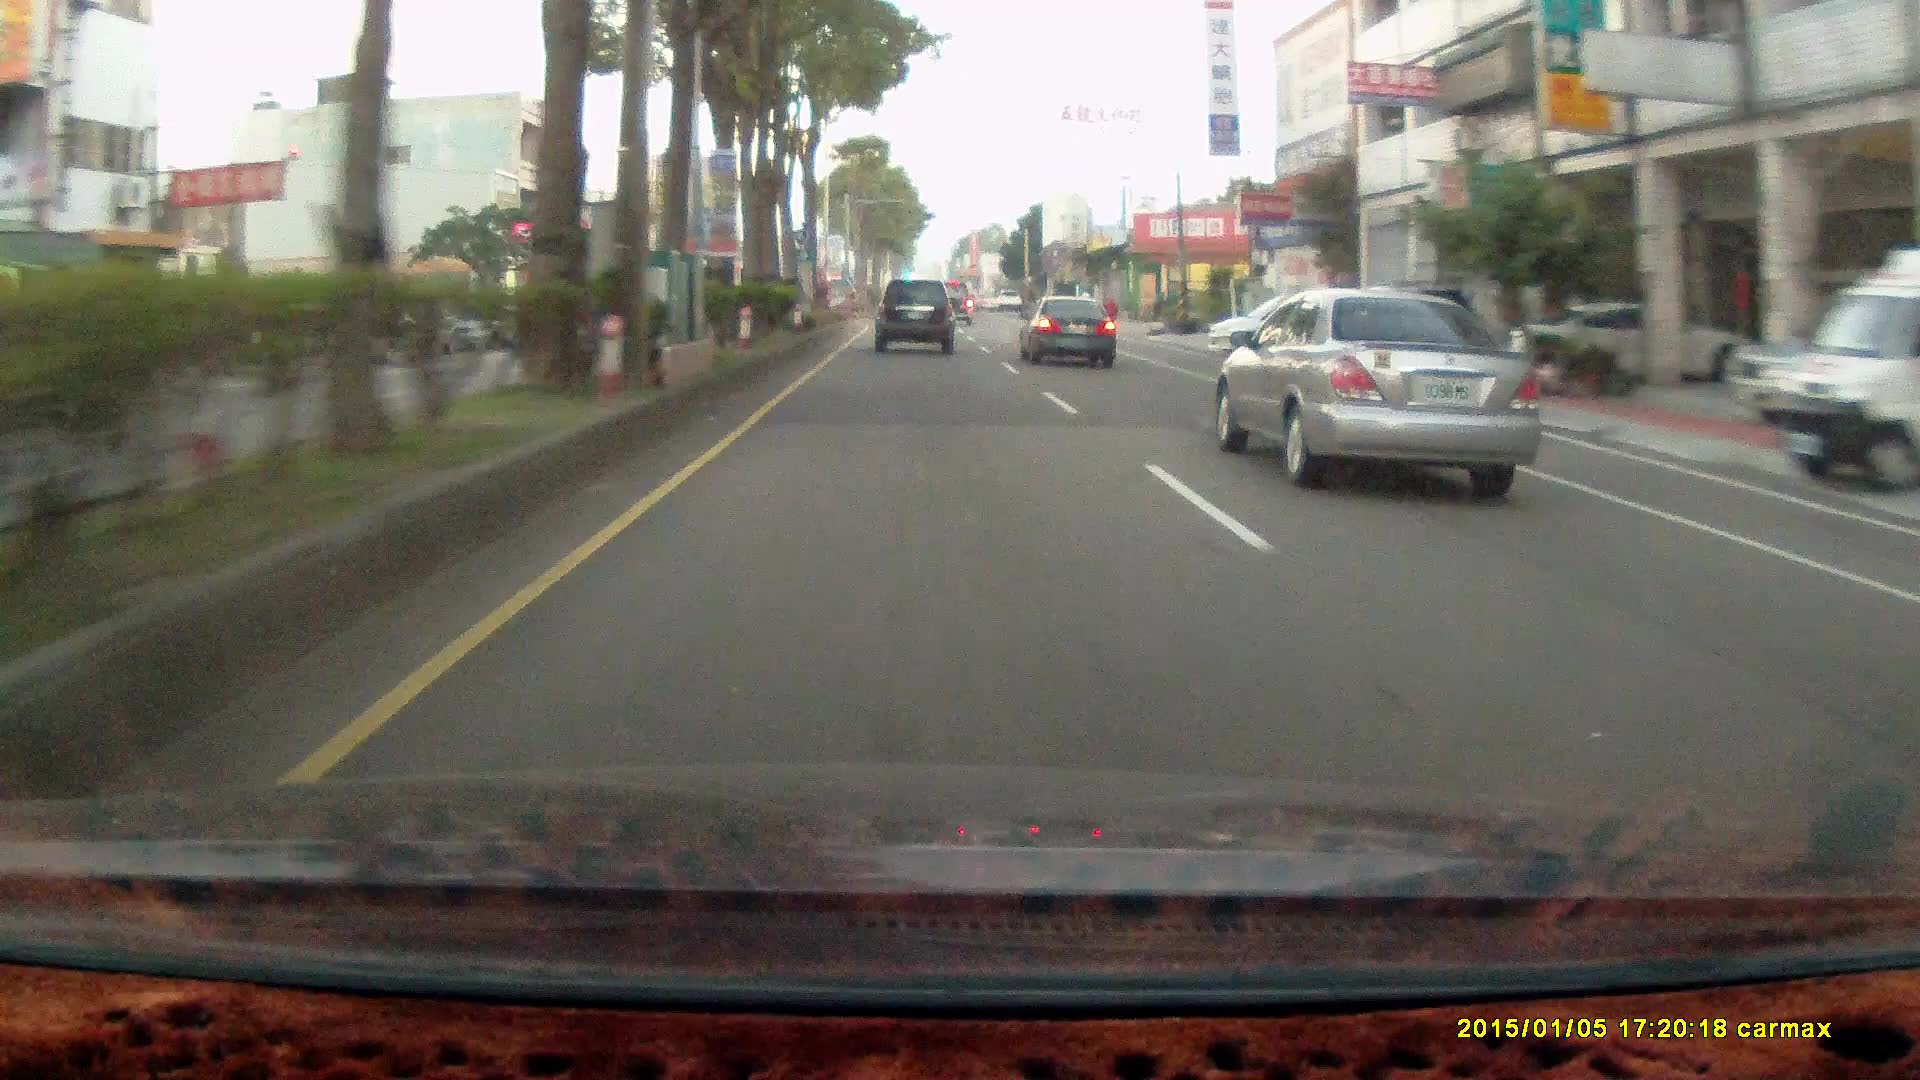pedestrian: (1100, 295, 1120, 339)
vehicle: (1218, 291, 1545, 486), (1764, 250, 1920, 499), (1503, 304, 1760, 386), (1337, 284, 1511, 396), (1219, 301, 1383, 371), (1206, 291, 1365, 361), (1018, 294, 1122, 369), (1018, 293, 1116, 368), (873, 280, 958, 359), (873, 280, 954, 355)
